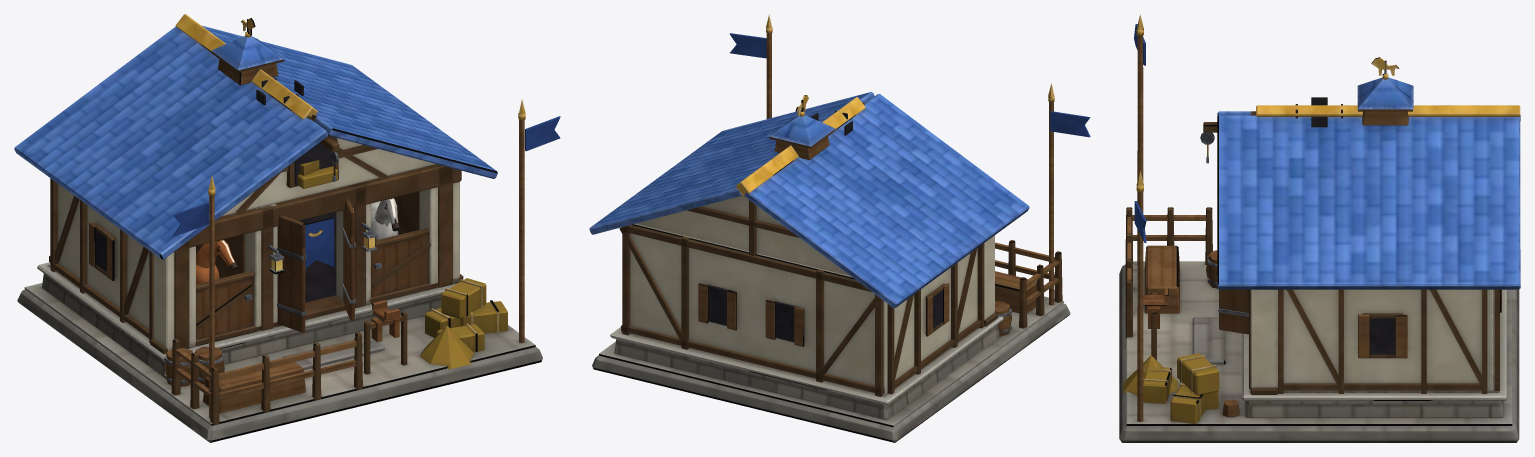
File: stable.glb
3 renders of one model, left to right at view 1: azimuth 30°, elevation 25°; view 2: azimuth 150°, elevation 25°; view 3: azimuth 270°, elevation 25°, orthographic. The views are drawn at different scales.
Parts seen in each view (by area): view 1: Static_Mesh, Anim_Banners; view 2: Static_Mesh, Anim_Banners; view 3: Static_Mesh, Anim_Banners.
Boxes of the visible parts, x1,y1,x2,y2 form: Static_Mesh: [14, 14, 542, 442]; Anim_Banners: [172, 116, 560, 268]; Static_Mesh: [589, 14, 1070, 442]; Anim_Banners: [729, 33, 1090, 137]; Static_Mesh: [1119, 14, 1520, 442]; Anim_Banners: [1134, 24, 1146, 242].
Size of the model in its own units: 8.46 by 6.05 by 7.28.
Materials: 2 (2 with a texture image).
